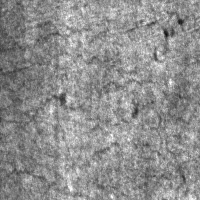crazing: (84, 74, 194, 190), (1, 18, 125, 72)
